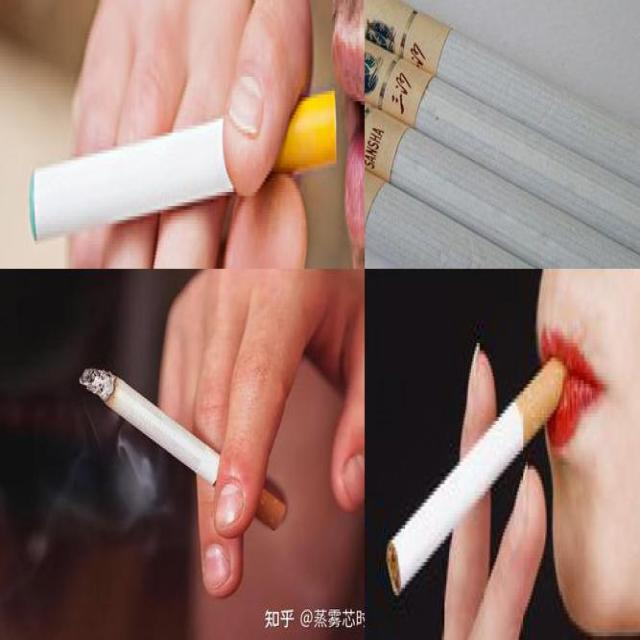smoking: (364, 0, 640, 268), (364, 21, 640, 268), (364, 0, 640, 236), (364, 71, 640, 268), (26, 84, 336, 242), (386, 352, 571, 599), (79, 366, 287, 533)
